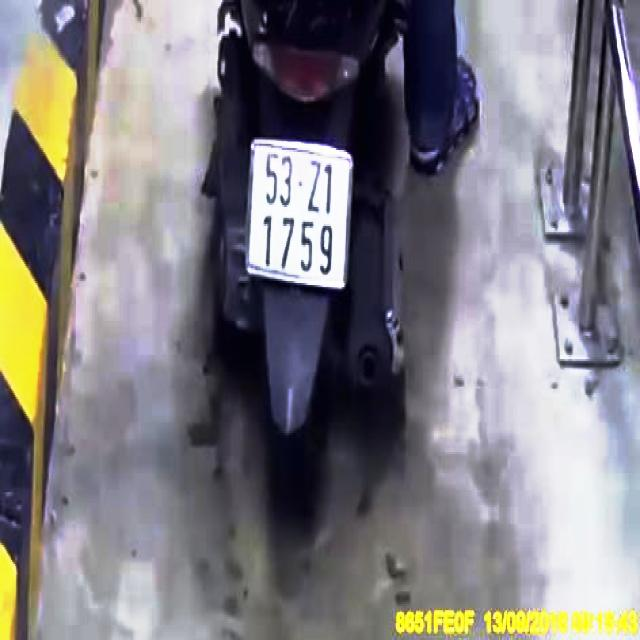license_plate: (247, 139, 352, 287)
